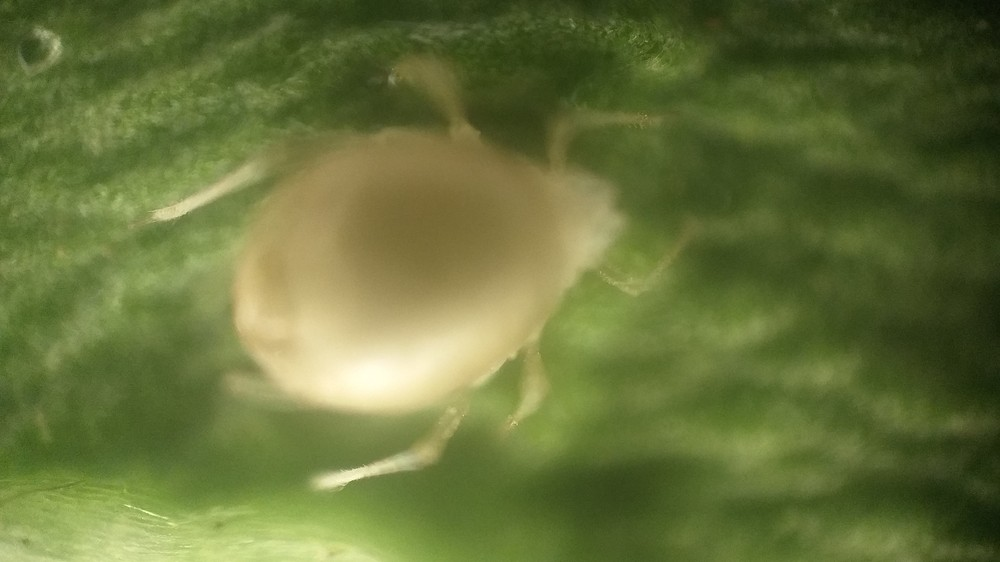Pulgon: (124, 56, 740, 509)
